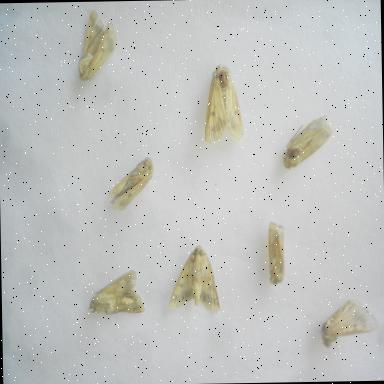abw: (166, 242, 224, 318), (74, 7, 125, 87), (202, 62, 246, 148), (318, 294, 383, 352), (279, 110, 335, 174), (86, 266, 148, 320), (105, 154, 158, 216), (265, 217, 289, 288)
